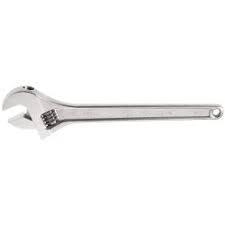wrench: (0, 83, 224, 139)
